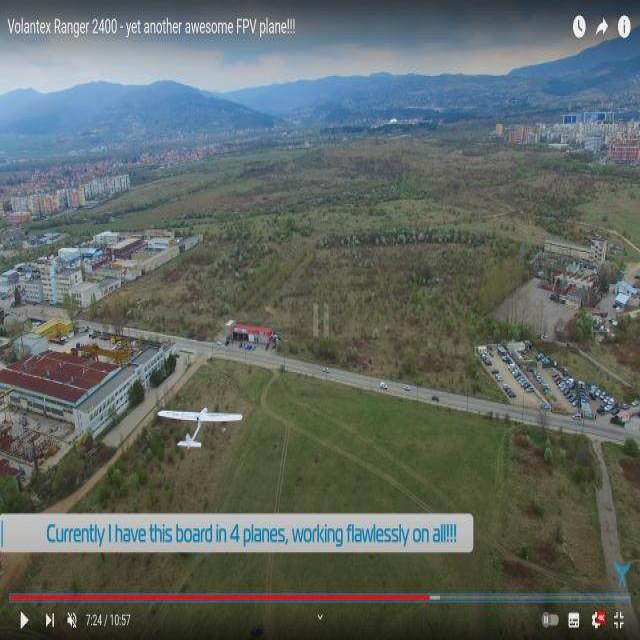iha: (189, 410, 233, 447)
